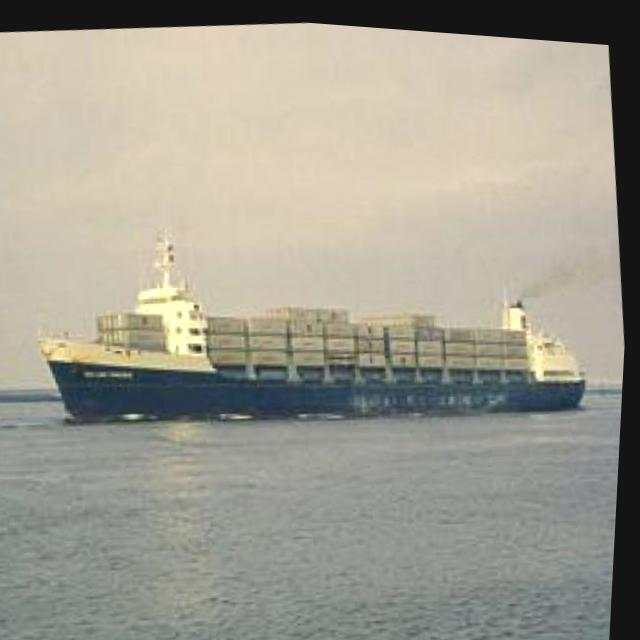ship2: (45, 231, 592, 421)
